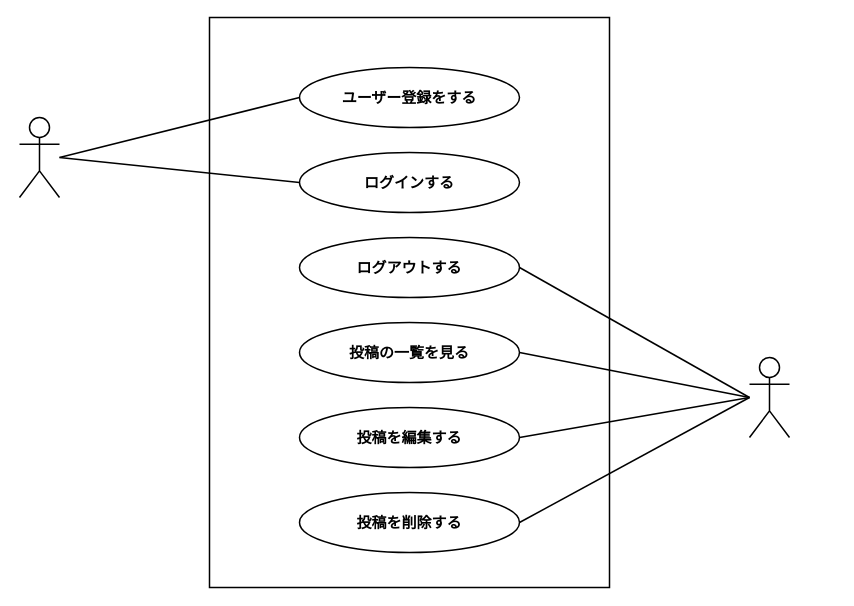
This 854x606 diagram has some shape labels left out. Here are the shapes that lost their labels. From the top down, the box of each, then its label:
(18, 116, 60, 198): 訪問者
(208, 16, 610, 588): 投稿アプリ
(748, 356, 790, 438): ログイン済み利用者
